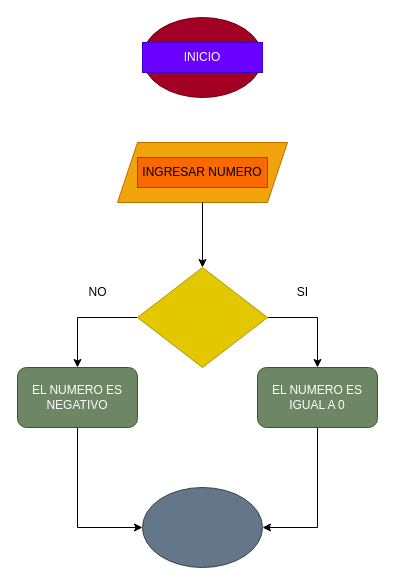
The diagram is 395 pixels wide and 585 high, and some of its shapes have lost their labels. Each missing label, with the centre of its shape:
"FIN" goes at (202,527).
"NUM > 0 ?" goes at (202,317).
